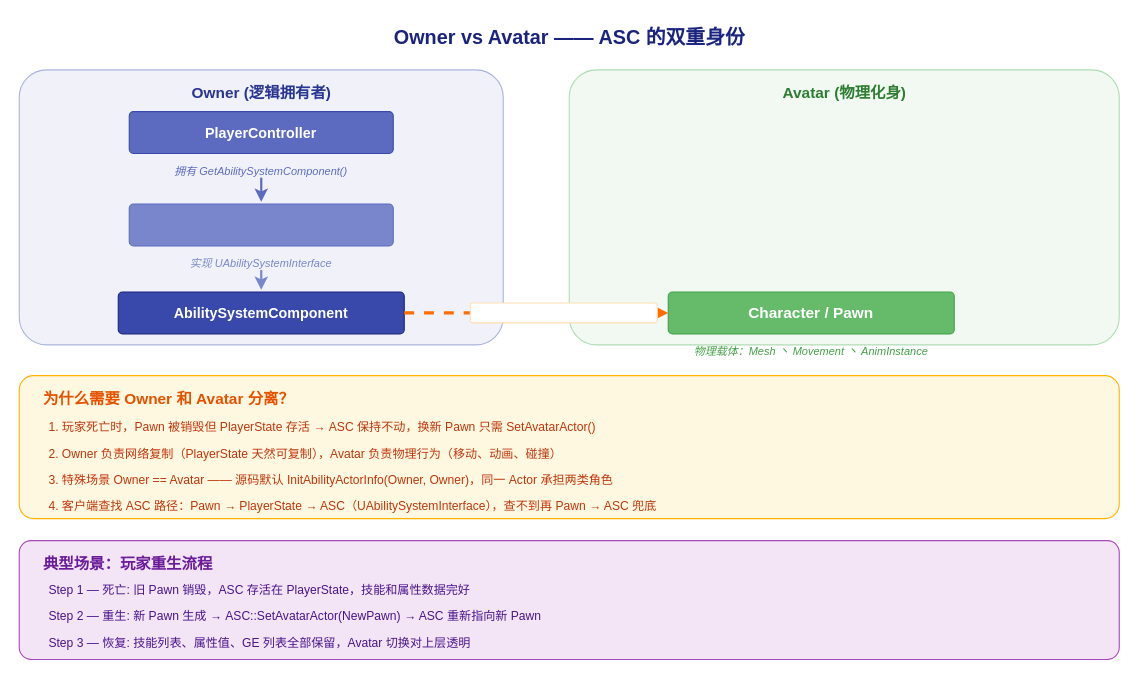
Some shapes in this 1139 by 679 pixel diagram are drawn without their labels. Each missing label, with the centre of its shape:
InitAbilityActorInfo 绑定: [563,312]
PlayerState: [260,224]
